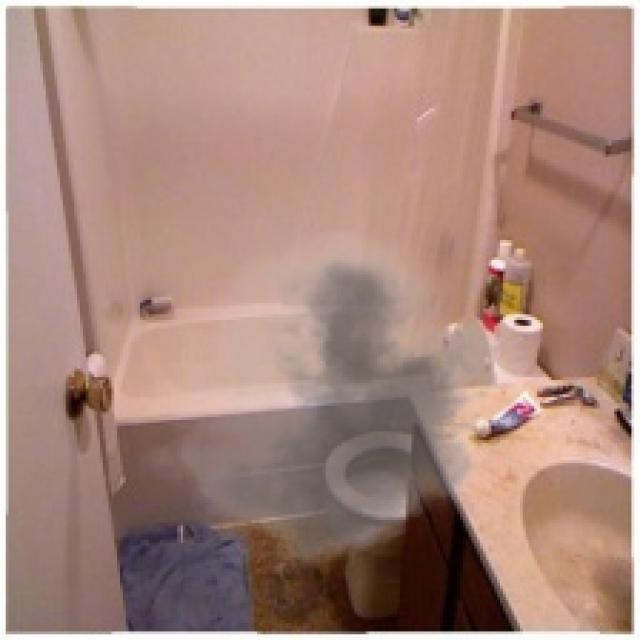smoke: (137, 228, 520, 583)
